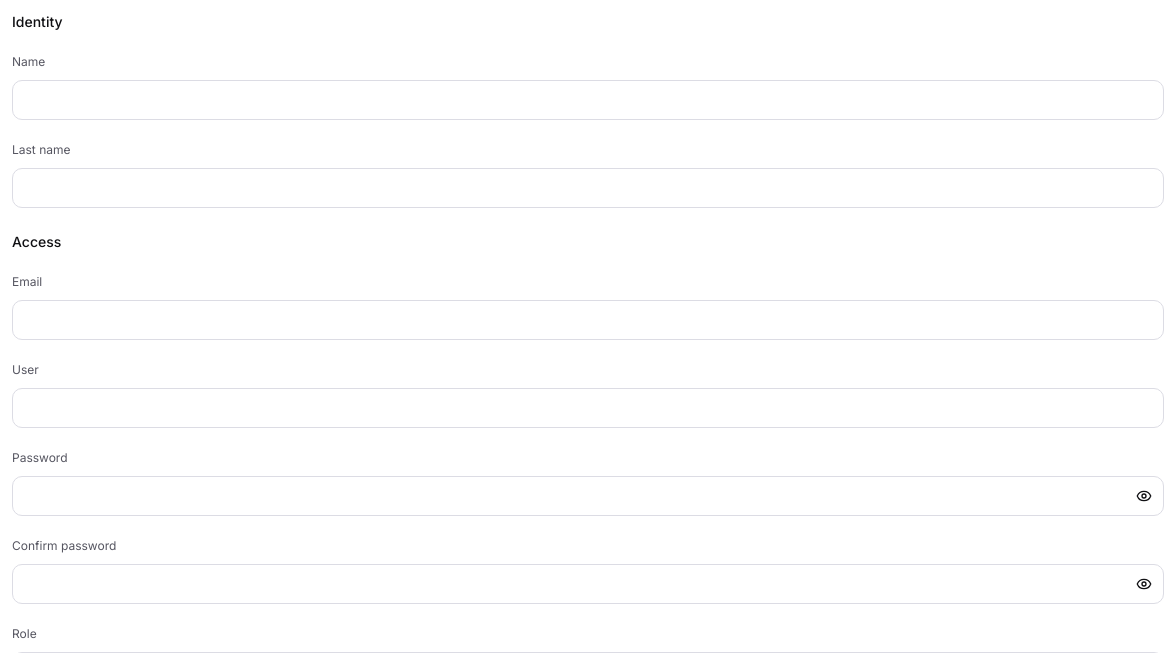
Test: create user form — show/hide password › renders an independent toggle on the password and the confirm field
The image size is (1176, 653).
Type "secret" into the password field labelled "Password" at (588, 496), box x1=12 y1=476 x2=1164 y2=516
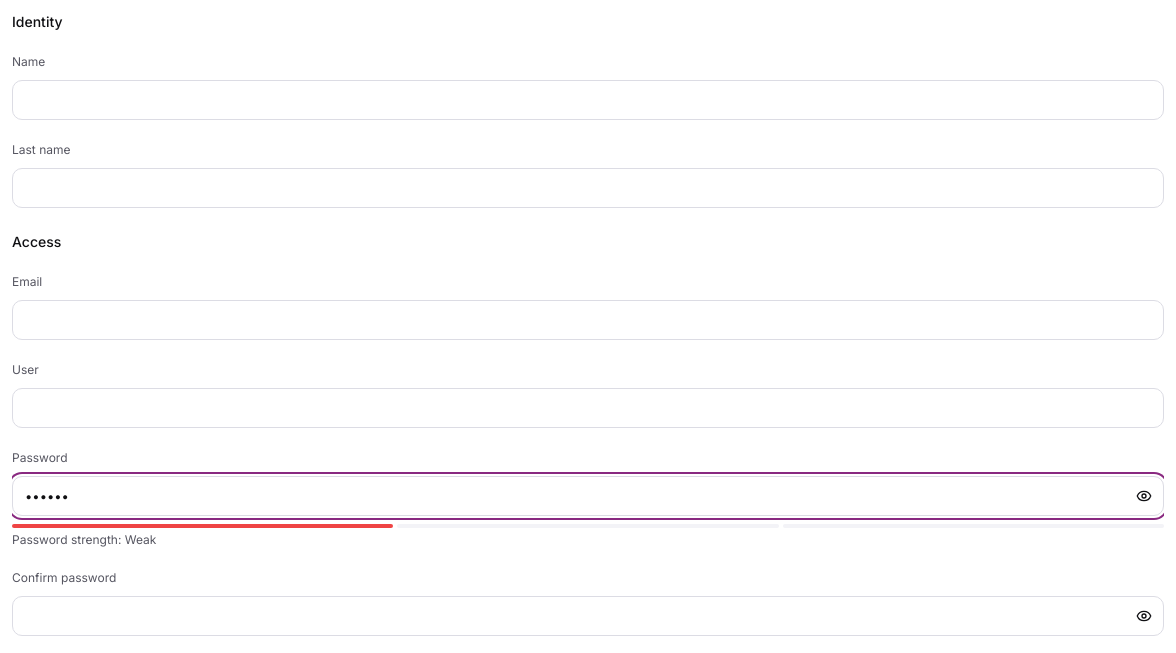
Type "secret" into the password field labelled "Confirm password" at (588, 616), box x1=12 y1=596 x2=1164 y2=636
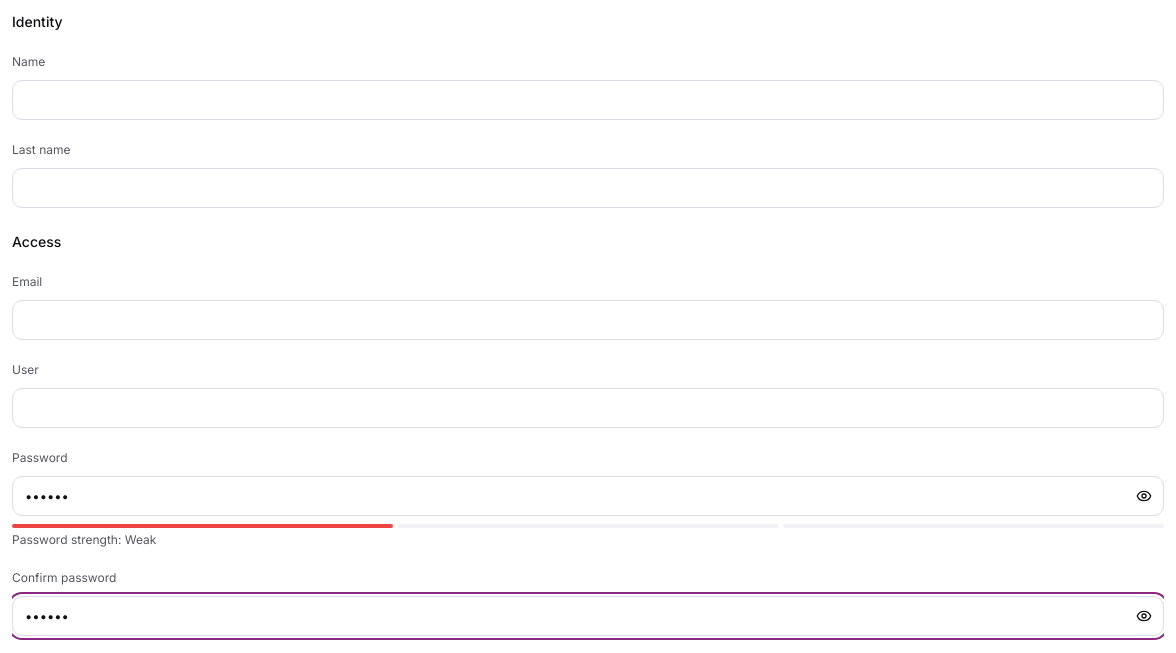
Click the 1st button named "Show password" at (1144, 496), box x1=1124 y1=476 x2=1164 y2=516
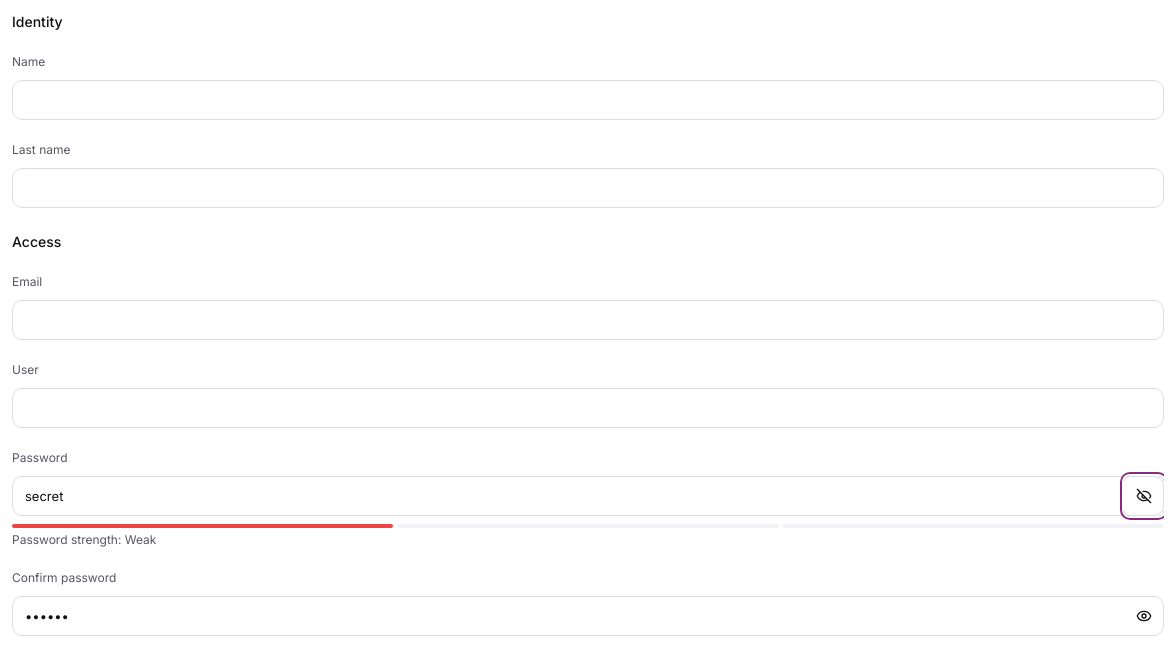
Check: the field labelled "Password" shows its text, box x1=12 y1=476 x2=1164 y2=516
Click the button named "Show password" at (1144, 616), box x1=1124 y1=596 x2=1164 y2=636
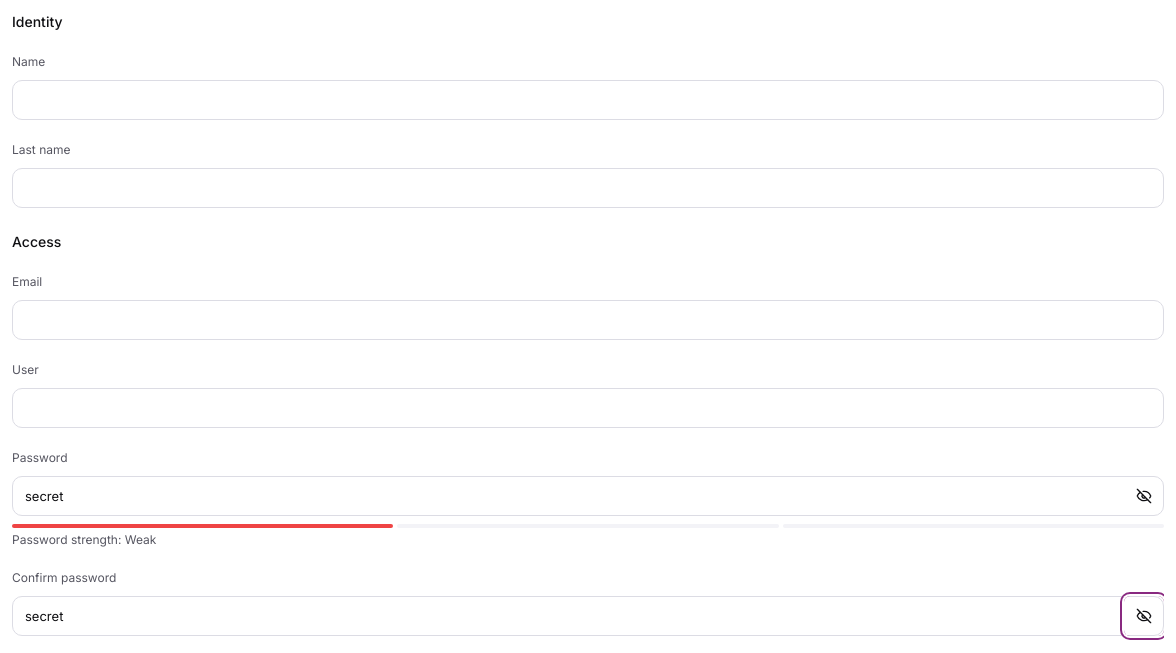
Check: the field labelled "Password" shows its text, box x1=12 y1=476 x2=1164 y2=516
Check: the field labelled "Confirm password" shows its text, box x1=12 y1=596 x2=1164 y2=636
Click the 1st button named "Hide password" at (1144, 496), box x1=1124 y1=476 x2=1164 y2=516
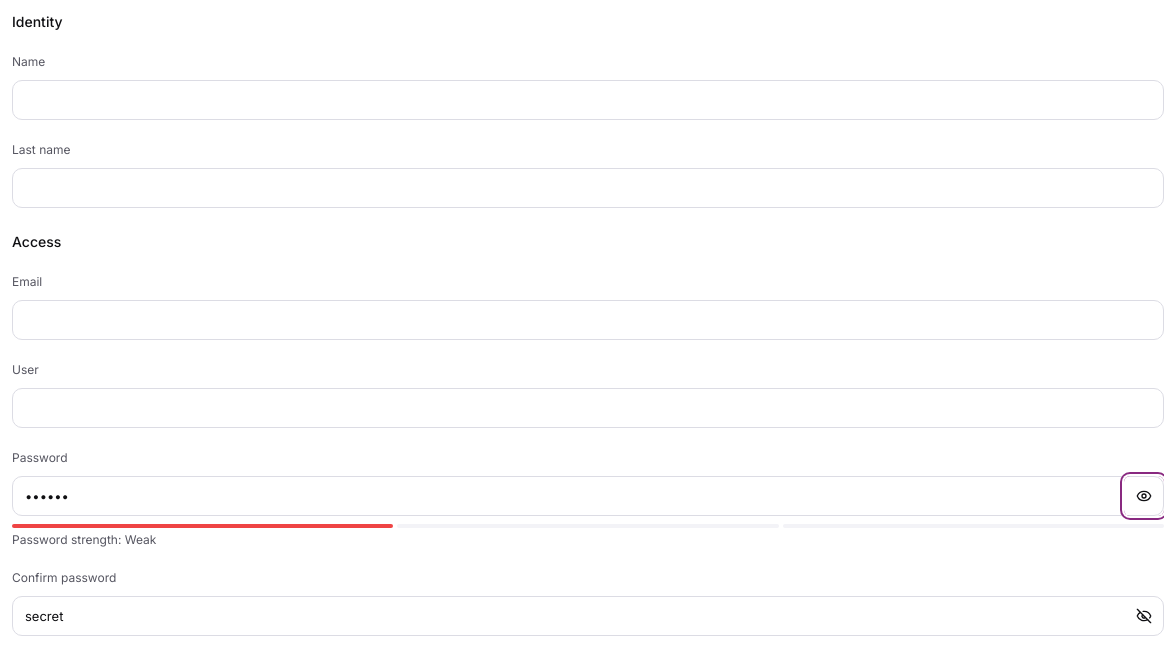
Check: the field labelled "Confirm password" shows its text, box x1=12 y1=596 x2=1164 y2=636
Check: the password field labelled "Password" hides its text, box x1=12 y1=476 x2=1164 y2=516
